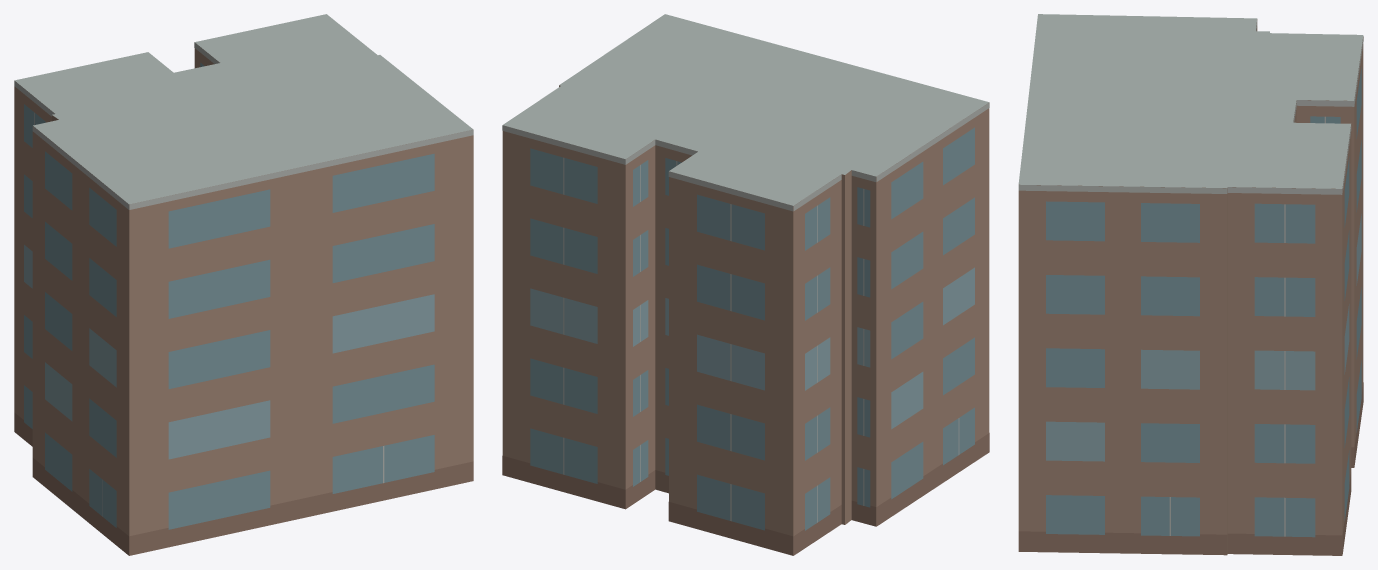
The model's file is survey-upis-32672152.glb.
3 renders of one model, left to right at view 1: azimuth 30°, elevation 25°; view 2: azimuth 150°, elevation 25°; view 3: azimuth 270°, elevation 25°, orthographic. The views are drawn at different scales.
Visible parts, largest first — view 1: survey-upis-32672152.tmp; view 2: survey-upis-32672152.tmp; view 3: survey-upis-32672152.tmp.
Boxes of the visible parts, x1,y1,x2,y2 form: survey-upis-32672152.tmp: (14,14,473,555); survey-upis-32672152.tmp: (502,14,989,555); survey-upis-32672152.tmp: (1018,14,1363,555).
Size of the model in its own units: 15.42 by 15.08 by 12.86.
